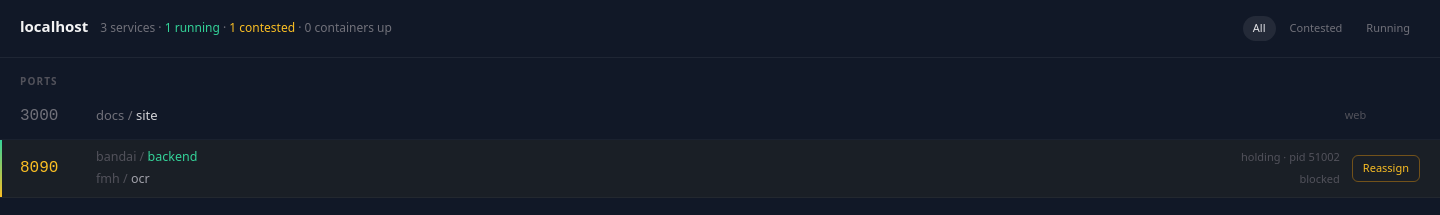
OverviewDetail (patchbay) › filters ports client-side
Expected: the text "3000" is shown, [20,106,58,124]
Click the button "contested": (1316, 28) [1280,16,1352,40]
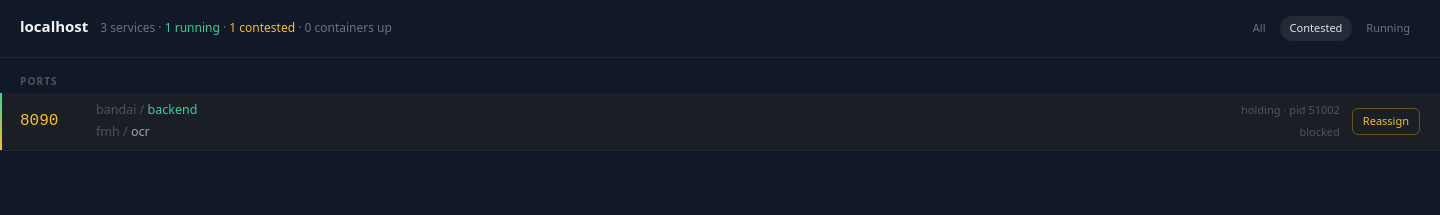
Expected: the text "8090" is shown, [20,112,58,130]
Expected: the text "3000" is gone
